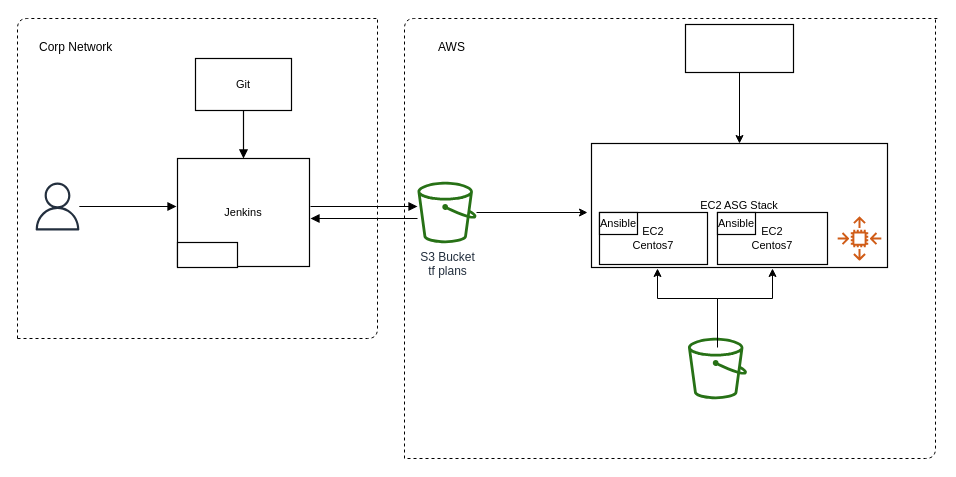
Image size: 956x477. Some labels were removed from this diagram. Each missing label, with the centre of its shape:
Engineer: (x=57, y=206)
Image Factory: (x=739, y=48)
S3 Bucket st2 installables: (x=717, y=368)
Terraform: (x=207, y=254)
